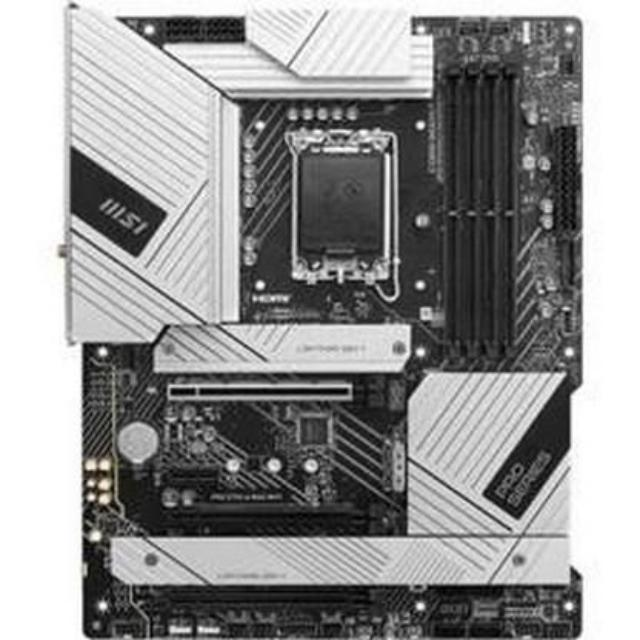Mainboard: (59, 2, 584, 640)
